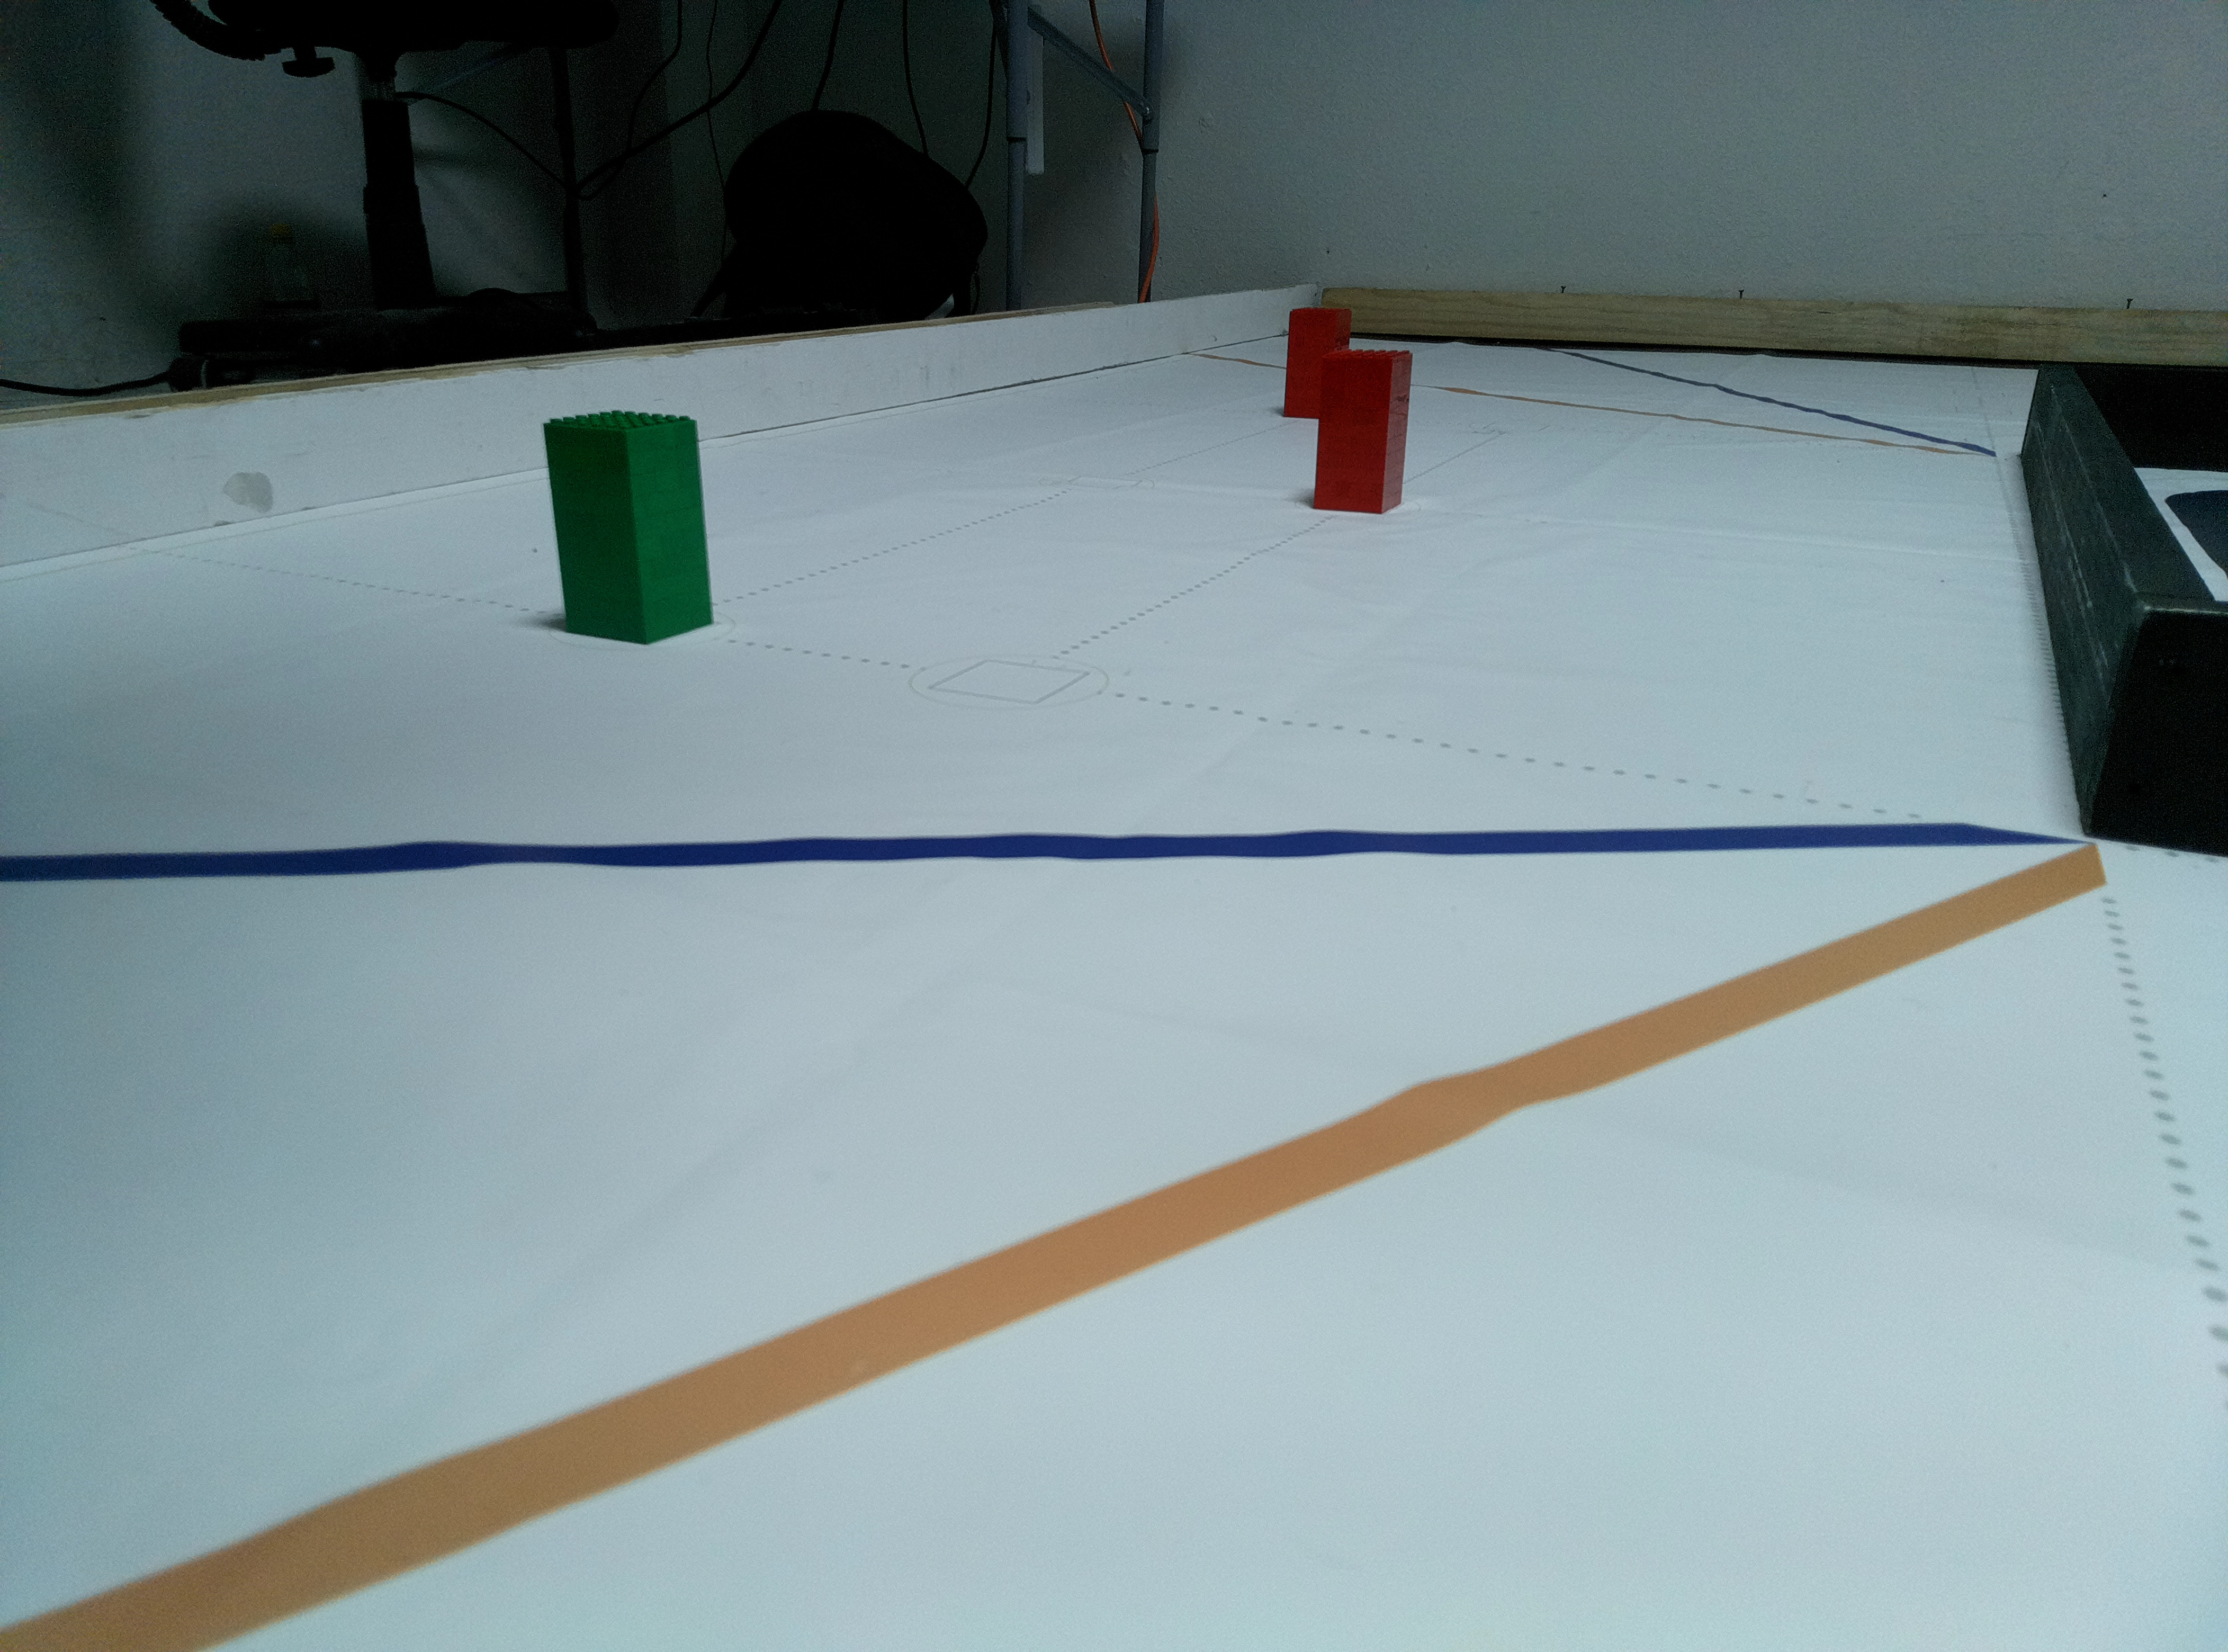greenbox: (540, 408, 718, 649)
redbox: (1312, 345, 1412, 515), (1281, 305, 1353, 422)
